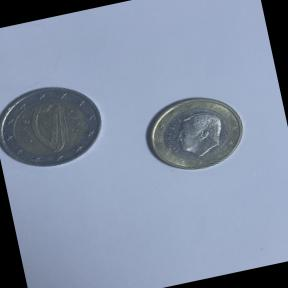coin: (0, 71, 115, 181), (135, 82, 253, 180)
